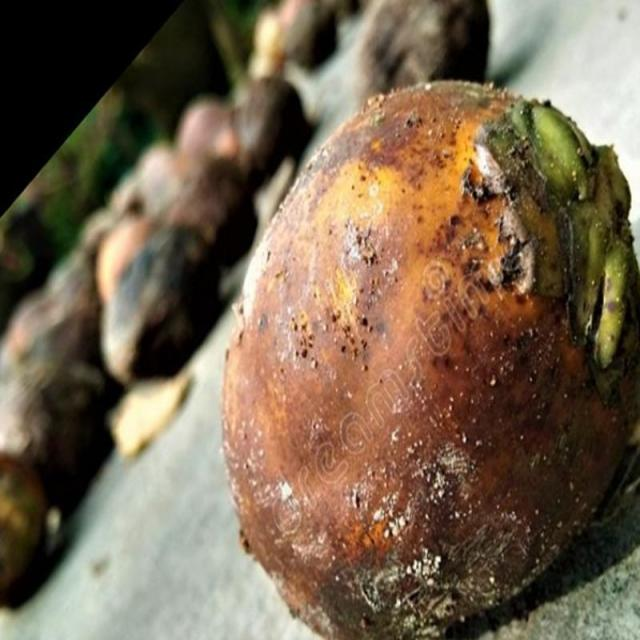damaged: (223, 81, 639, 639)
